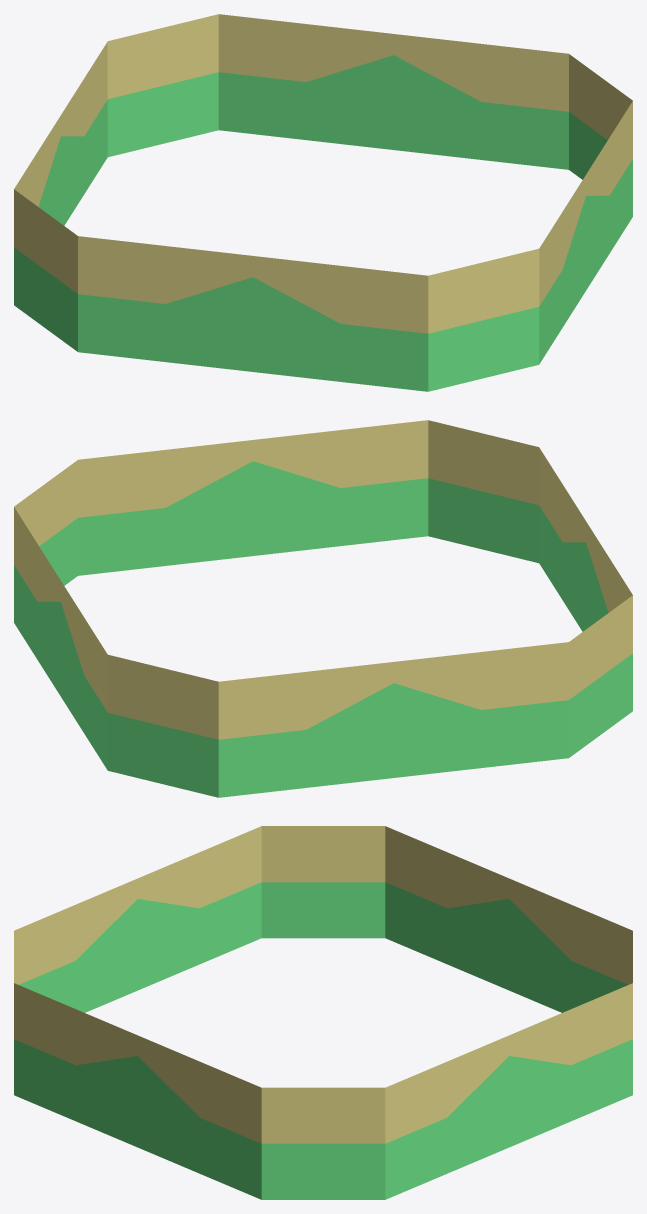
The model's file is castle_base_2.FBX.
3 views of the same model, one above another, from view 1: azimuth 30°, elevation 25°; view 2: azimuth 150°, elevation 25°; view 3: azimuth 270°, elevation 25° (orthographic). The views are drawn at different scales.
Parts seen in each view (by area): view 1: castle_base_2; view 2: castle_base_2; view 3: castle_base_2.
Boxes of the visible parts, bbox=[...] form: castle_base_2: bbox=[14, 14, 632, 391]; castle_base_2: bbox=[14, 420, 632, 797]; castle_base_2: bbox=[14, 826, 632, 1199].
Size of the model in its own units: 50 by 10 by 50.
